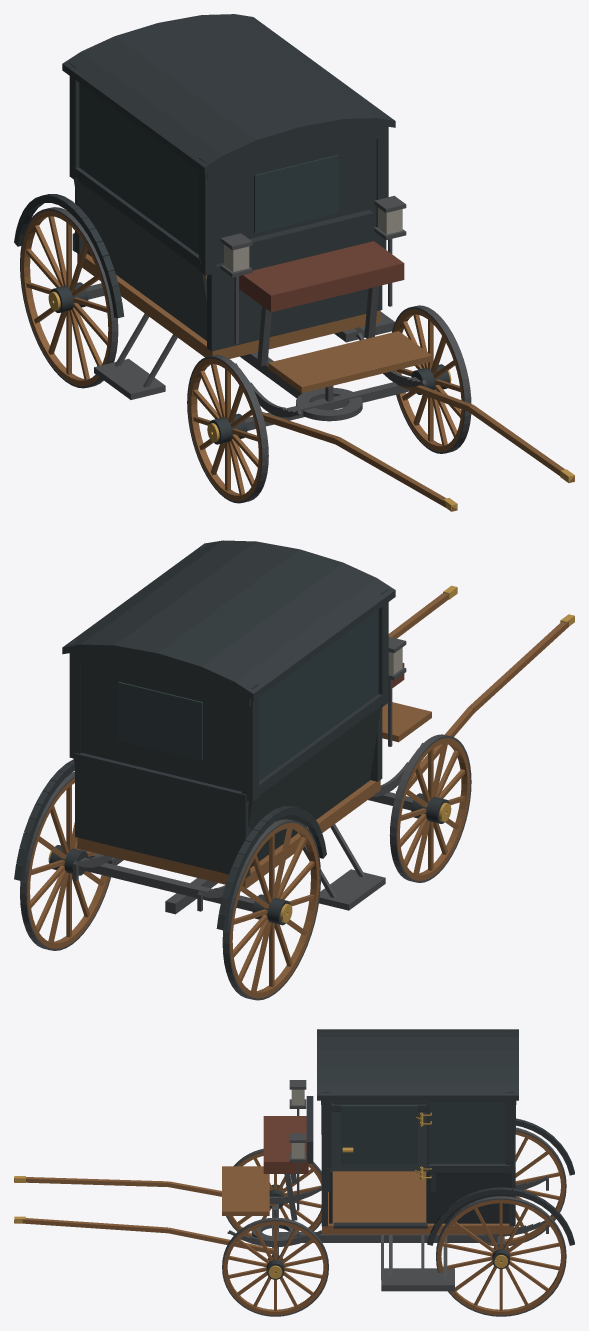
Rendered from orphan-door-part.glb.
3 views of the same model, one above another, from view 1: azimuth 30°, elevation 25°; view 2: azimuth 150°, elevation 25°; view 3: azimuth 270°, elevation 25° (orthographic). The views are drawn at different scales.
Visible parts, largest first — view 1: surface_1_0, surface_1_6, surface_1_1, surface_1_2, surface_295_1, surface_1_4, surface_335_1, surface_315_1, surface_355_1, surface_132_4, surface_335_4, surface_0_4 (+3 smaller); view 2: surface_1_0, surface_1_6, surface_295_1, surface_335_1, surface_1_1, surface_275_1, surface_1_4, surface_355_1, surface_131_4, surface_335_4, surface_295_4, surface_0_4 (+1 smaller); view 3: surface_1_0, surface_1_1, surface_1_6, surface_2_6, surface_275_1, surface_315_1, surface_1_4, surface_355_1, surface_0_4, surface_1_2, surface_295_1, surface_335_1 (+5 smaller).
Boxes of the visible parts, x1,y1,x2,y2 form: surface_1_0: (14, 14, 395, 351); surface_1_6: (79, 83, 338, 254); surface_1_1: (77, 253, 431, 392); surface_1_2: (239, 241, 404, 312); surface_295_1: (21, 210, 110, 386); surface_1_4: (94, 195, 406, 399); surface_335_1: (188, 358, 261, 501); surface_315_1: (393, 309, 463, 451); surface_355_1: (262, 384, 574, 511); surface_132_4: (245, 377, 418, 430); surface_335_4: (187, 355, 268, 503); surface_0_4: (72, 232, 426, 417); surface_1_0: (14, 540, 395, 930); surface_1_6: (118, 609, 378, 781); surface_295_1: (230, 822, 319, 998); surface_335_1: (397, 738, 470, 880); surface_1_1: (77, 702, 431, 888); surface_275_1: (27, 778, 109, 948); surface_1_4: (82, 637, 406, 910); surface_355_1: (388, 593, 568, 792); surface_131_4: (79, 857, 254, 911); surface_335_4: (389, 734, 471, 882); surface_295_4: (222, 819, 320, 1000); surface_0_4: (72, 743, 422, 914); surface_1_0: (306, 1029, 574, 1245); surface_1_1: (222, 1166, 514, 1234); surface_1_6: (321, 1101, 515, 1163); surface_2_6: (341, 1105, 417, 1164); surface_275_1: (437, 1199, 564, 1315); surface_315_1: (223, 1221, 327, 1315); surface_1_4: (284, 1080, 454, 1291); surface_355_1: (14, 1177, 275, 1253); surface_0_4: (227, 1176, 548, 1247); surface_1_2: (263, 1116, 308, 1173); surface_295_1: (486, 1131, 564, 1244); surface_335_1: (227, 1152, 321, 1236).
Size of the model in its own units: 1.85 by 2.14 by 4.72.
